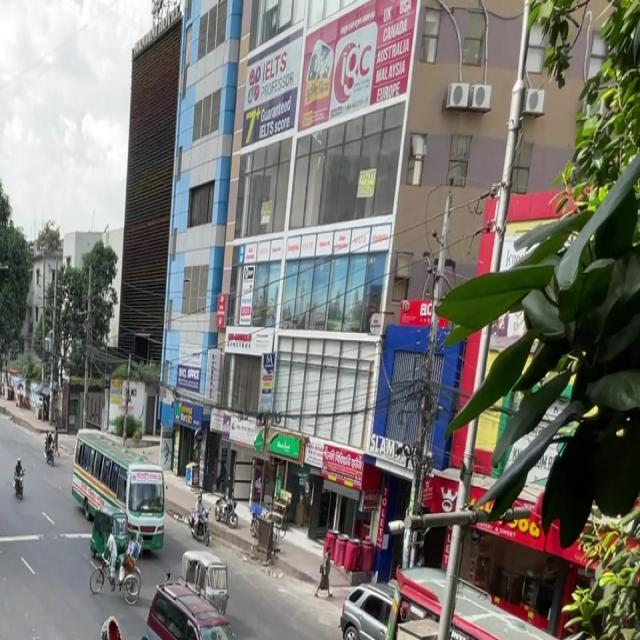bus: (67, 423, 173, 560)
car: (136, 582, 268, 640)
motorbike: (219, 491, 238, 533)
rickshaw: (174, 542, 234, 617)
